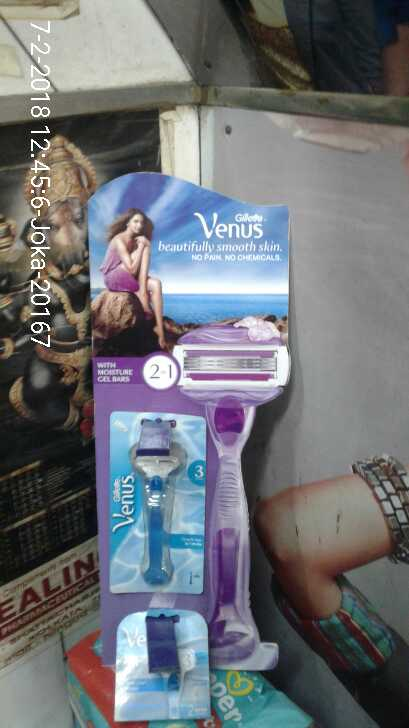venus: (105, 404, 207, 601), (122, 608, 209, 717)
